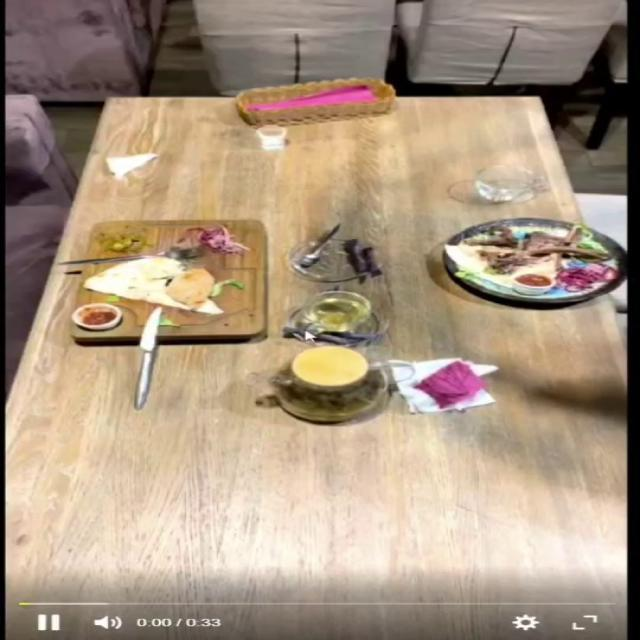meat: (413, 194, 622, 312), (74, 221, 268, 339)
tea: (270, 346, 385, 422)
